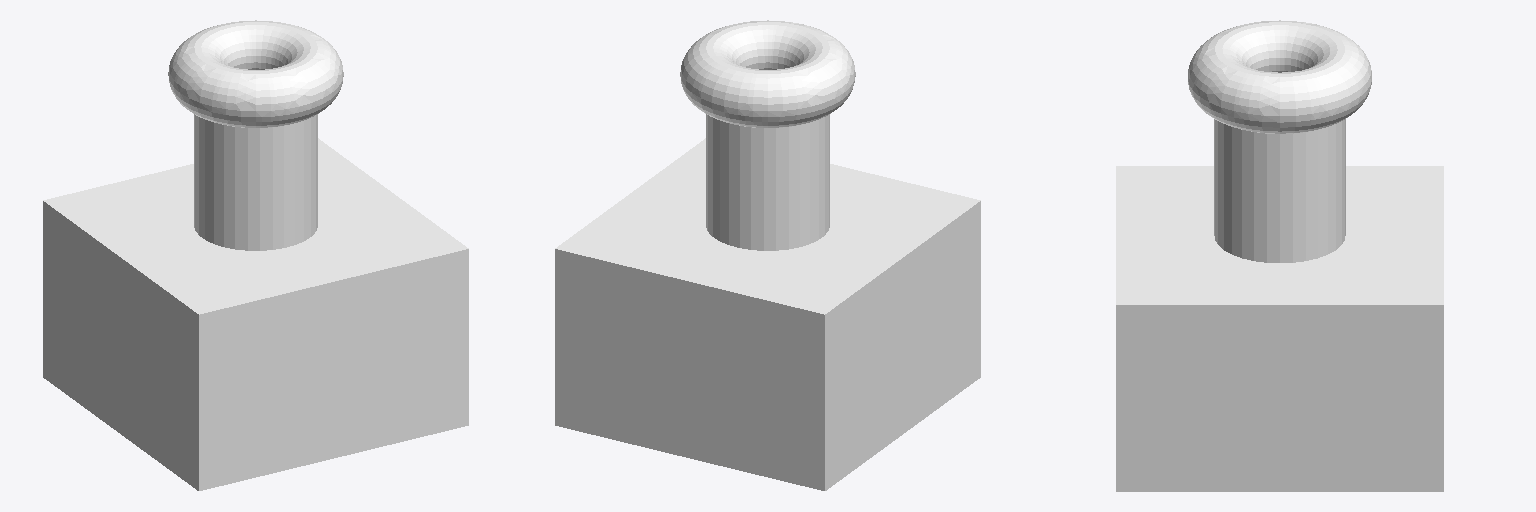
The robot description file, URDF, robot "torus":
<robot name="torus">
	<link name="_name">
		<visual>
			<origin rpy="0 0 0" xyz="-7.195103610549192e-09 5.2282604385410604e-08 -0.006678547679889386" />
			<geometry>
				<mesh filename="torus.obj" scale=".001 .001 .001" />
			</geometry>
			<material name="texture">
				<color rgba="1.0 1.0 1.0 1.0" />
			</material>
		</visual>
		<collision>
			<geometry>
				<mesh filename="torus_vhacd.obj" scale=".001 .001 .001" />
			</geometry>
		<origin rpy="0 0 0" xyz="-7.195103610549192e-09 5.2282604385410604e-08 -0.006678547679889386" /></collision>
		<inertial>
			<mass value="1.0" />
			<inertia ixx="1.0" ixy="0.0" ixz="0.0" iyy="1.0" iyz="0.0" izz="1.0" />
		</inertial>
	</link>
</robot>

--- Facts derived from the render (not from the file) ---
Views: 3 orthographic renders of the robot side by side, from view 1: azimuth 30°, elevation 25°; view 2: azimuth 150°, elevation 25°; view 3: azimuth 270°, elevation 25°.
Model torus with 1 links and 0 joints (none), rooted at _name, posed all joints at 0.
Links seen in each view (by area): view 1: _name; view 2: _name; view 3: _name.
Boxes of the visible links, <box> form: _name: <box>43,20,468,490</box>; _name: <box>555,20,980,490</box>; _name: <box>1116,20,1443,491</box>.
Bounding box of the posed robot: 0.016 × 0.016 × 0.02 m (x, y, z).
1 mesh visuals loaded from 1 distinct referenced files (1 OBJ).